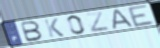0: (67, 15, 86, 35)
A: (111, 8, 136, 31)
B: (20, 20, 44, 43)
E: (126, 3, 156, 28)
K: (42, 17, 65, 38)
Z: (84, 11, 111, 33)
